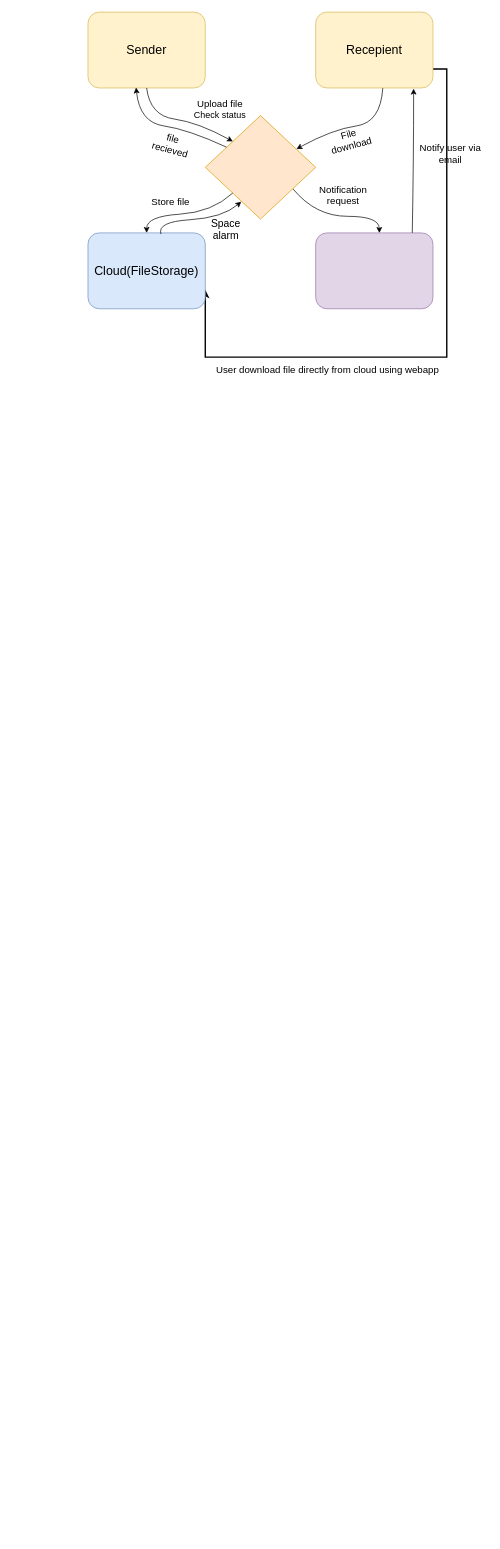
Some shapes in this 500 by 1549 pixel diagram are drawn without their labels. The centre of each missing label's shape, as x and y in pixels:
Email Notification: (x=374, y=270)
File Transfer Service: (x=260, y=167)
